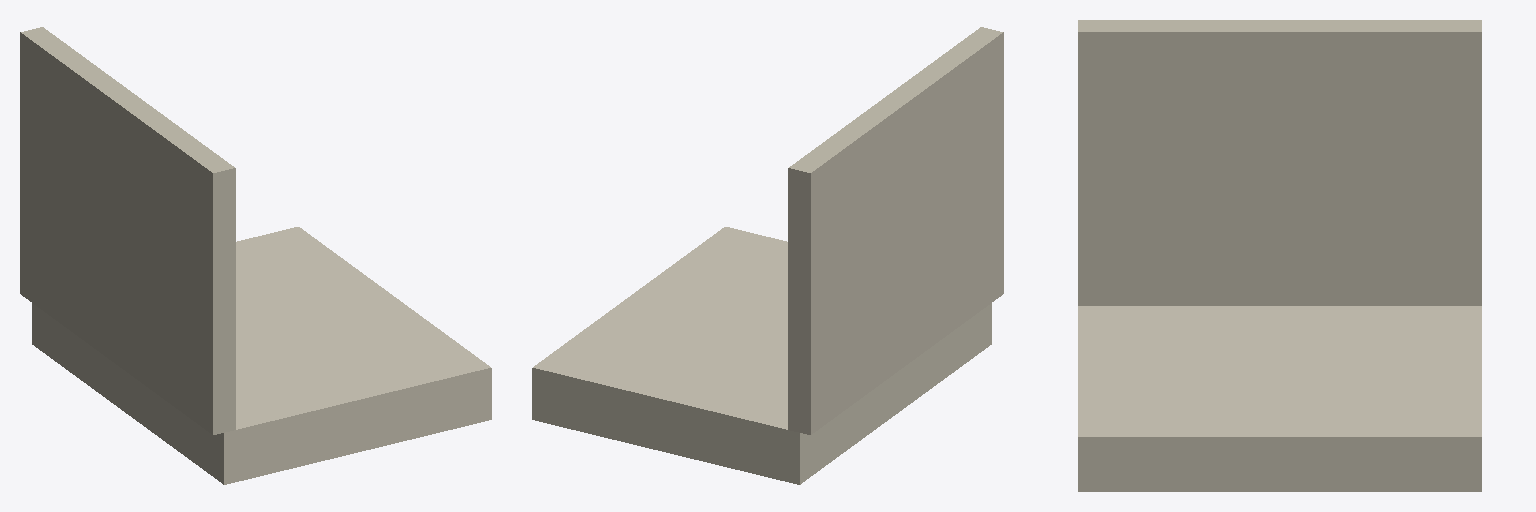
The robot description file, URDF, robot "old_laptop":
<?xml version="1.0"?>
<robot name="old_laptop">
  <!-- Base / keyboard half, ~30cm wide x 24cm deep x 4.5cm thick -->
  <link name="base_link">
    <visual>
      <origin xyz="0 0 0" rpy="0 0 0"/>
      <geometry>
        <box size="0.24 0.30 0.045"/>
      </geometry>
      <material name="beige">
        <color rgba="0.82 0.80 0.74 1.0"/>
      </material>
    </visual>
    <collision>
      <origin xyz="0 0 0" rpy="0 0 0"/>
      <geometry>
        <box size="0.24 0.30 0.045"/>
      </geometry>
    </collision>
    <inertial>
      <origin xyz="0 0 0" rpy="0 0 0"/>
      <mass value="2.0"/>
      <inertia ixx="0.01534" ixy="0.0" ixz="0.0" iyy="0.00994" iyz="0.0" izz="0.0246"/>
    </inertial>
  </link>

  <!-- Screen / lid half, ~30cm wide x 22.5cm tall x 2cm thick -->
  <link name="screen_link">
    <visual>
      <origin xyz="0 0 0.1125" rpy="0 0 0"/>
      <geometry>
        <box size="0.02 0.30 0.225"/>
      </geometry>
      <material name="beige_dark">
        <color rgba="0.80 0.78 0.72 1.0"/>
      </material>
    </visual>
    <collision>
      <origin xyz="0 0 0.1125" rpy="0 0 0"/>
      <geometry>
        <box size="0.02 0.30 0.225"/>
      </geometry>
    </collision>
    <inertial>
      <origin xyz="0 0 0.1125" rpy="0 0 0"/>
      <mass value="0.6"/>
      <inertia ixx="0.00715" ixy="0.0" ixz="0.0" iyy="0.00267" iyz="0.0" izz="0.00452"/>
    </inertial>
  </link>

  <!-- Hinge at rear top edge of base. 0 = open vertical, +pi/2 = closed flat -->
  <joint name="lid_hinge" type="revolute">
    <parent link="base_link"/>
    <child link="screen_link"/>
    <origin xyz="-0.12 0 0.0225" rpy="0 0 0"/>
    <axis xyz="0 1 0"/>
    <limit lower="-0.35" upper="1.5708" effort="5.0" velocity="2.0"/>
    <dynamics damping="0.1" friction="0.2"/>
  </joint>
</robot>

--- Render facts (derived) ---
3 views of the same robot in one strip: view 1: azimuth 30°, elevation 25°; view 2: azimuth 150°, elevation 25°; view 3: azimuth 270°, elevation 25° (orthographic).
Robot: old_laptop — 2 links, 1 joints (1 revolute); root link base_link; default pose: all joints at 0.
Links seen in each view (by area): view 1: screen_link, base_link; view 2: screen_link, base_link; view 3: screen_link, base_link.
Boxes of the visible links, left/top/right/bottom form: screen_link: left=20, top=27, right=235, bottom=434; base_link: left=32, top=227, right=491, bottom=484; screen_link: left=788, top=27, right=1003, bottom=434; base_link: left=532, top=227, right=991, bottom=484; screen_link: left=1078, top=20, right=1481, bottom=305; base_link: left=1078, top=306, right=1481, bottom=491.
Bounding box of the posed robot: 0.25 × 0.3 × 0.27 m (x, y, z).
Geometry: primitives only (box / cylinder / sphere), no mesh files.
